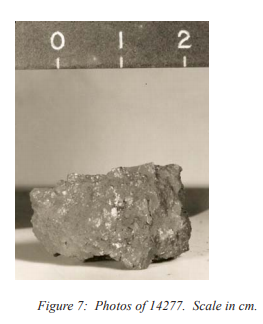Breccia: (19, 155, 195, 274)
